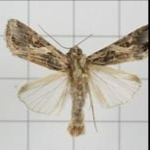Spodoptera litura: (4, 18, 148, 136)
